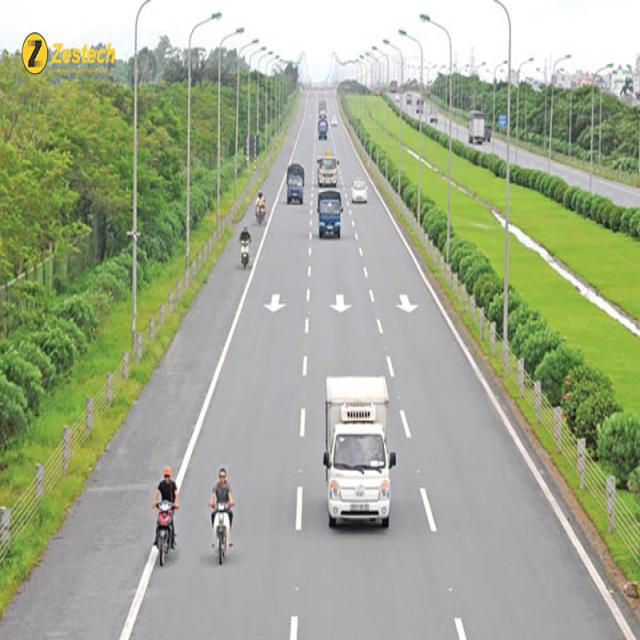Dump Truck: (316, 152, 339, 185), (317, 121, 329, 141), (318, 102, 328, 118)
Truck: (320, 369, 399, 532), (317, 190, 344, 240), (284, 163, 305, 207)
car: (350, 177, 368, 206), (331, 115, 339, 128)
motobyte: (151, 465, 181, 566), (206, 471, 235, 565), (240, 226, 250, 268), (253, 192, 266, 223)
